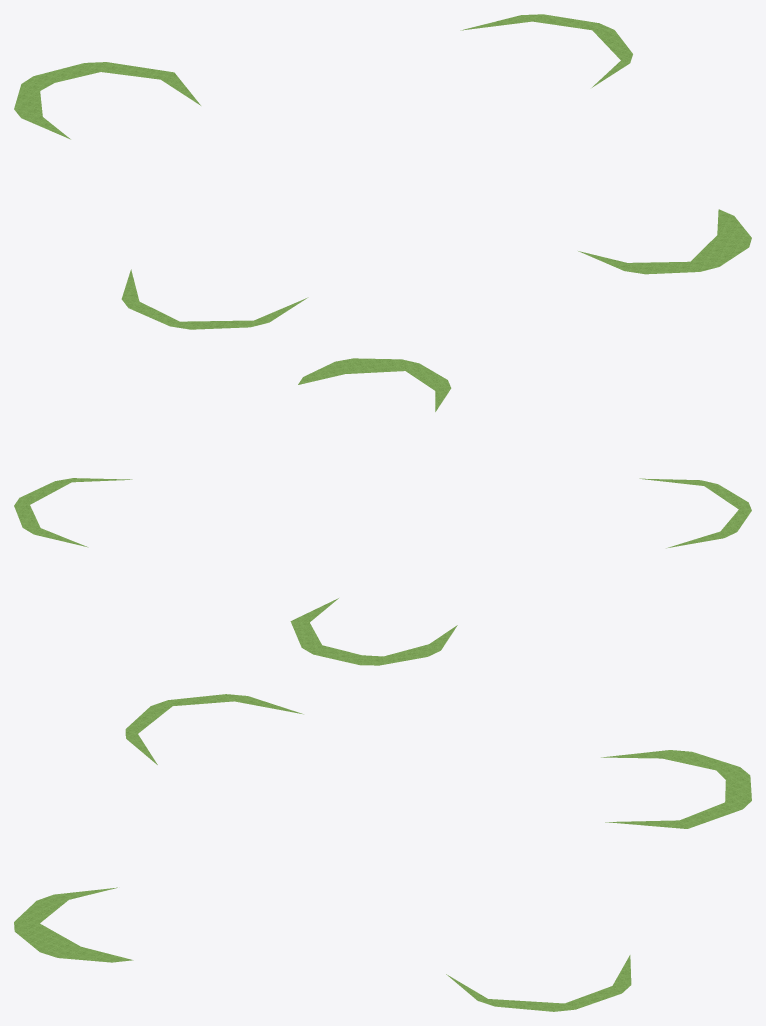
The model's file is kd_stage_1366d7_10_2_bounded.glb.
The picture shows the model from 3 angles, top to bottom: view 1: azimuth 30°, elevation 25°; view 2: azimuth 150°, elevation 25°; view 3: azimuth 270°, elevation 25°; orthographic projection. The views are drawn at different scales.
Parts seen in each view (by area): view 1: kd_stage_1366d7_10_2_bounded; view 2: kd_stage_1366d7_10_2_bounded; view 3: kd_stage_1366d7_10_2_bounded.
Part boxes in pixels (bbox=[...]): kd_stage_1366d7_10_2_bounded: bbox=[14, 14, 751, 329]; kd_stage_1366d7_10_2_bounded: bbox=[14, 358, 751, 665]; kd_stage_1366d7_10_2_bounded: bbox=[14, 694, 751, 1011].
Size of the model in its own units: 307 by 0 by 302.
1 material, 1 textured.
